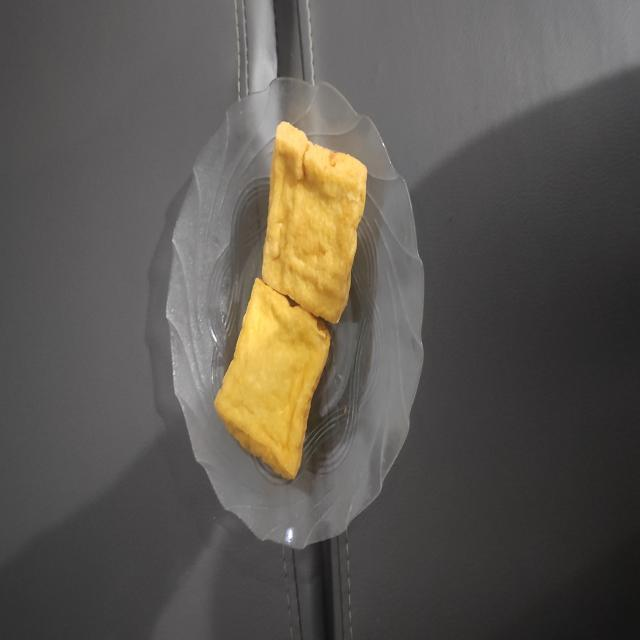tahu_goreng: (214, 278, 330, 480), (262, 122, 367, 324)
